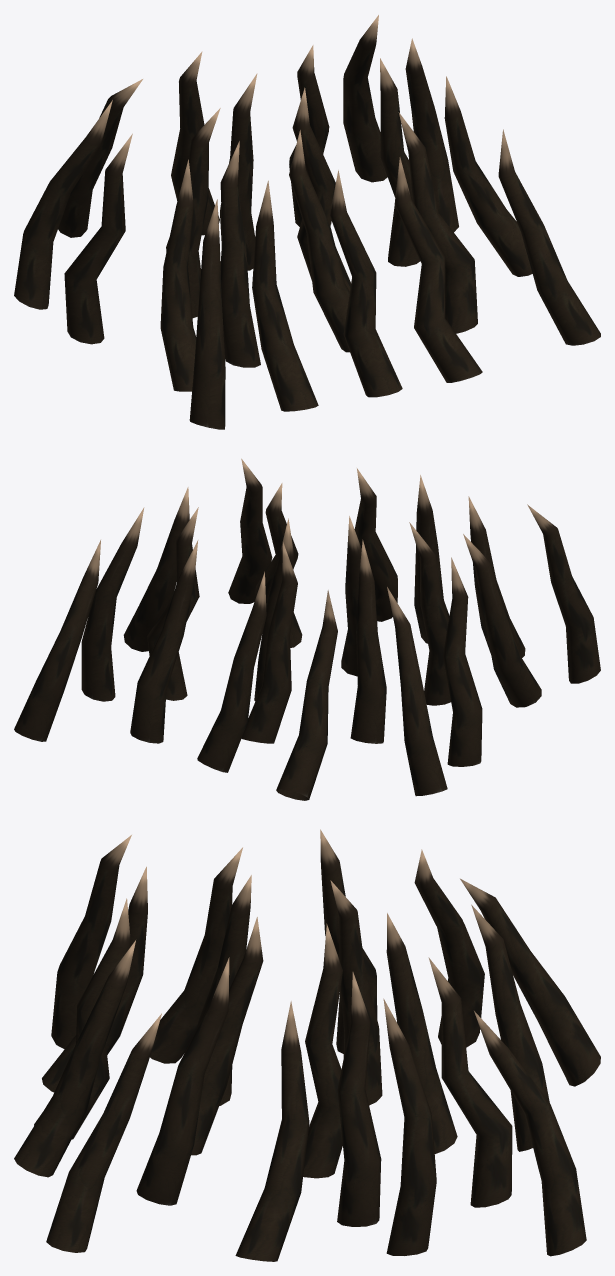
The model's file is puas.fbx.
3 views of the same model, one above another, from view 1: azimuth 30°, elevation 25°; view 2: azimuth 150°, elevation 25°; view 3: azimuth 270°, elevation 25° (orthographic). The views are drawn at different scales.
Parts seen in each view (by area): view 1: pCylinder11, pCylinder6, pCylinder18, pCylinder16, pCylinder17, pCylinder3, pCylinder12, pCylinder8, pCylinder13, pCylinder7, pCylinder14, pCylinder5 (+9 smaller); view 2: pCylinder9, pCylinder1, pCylinder15, pCylinder12, pCylinder3, pCylinder20, pCylinder4, pCylinder21, pCylinder10, pCylinder17, pCylinder8, pCylinder13 (+9 smaller); view 3: pCylinder7, pCylinder1, pCylinder6, pCylinder15, pCylinder21, pCylinder14, pCylinder19, pCylinder16, pCylinder9, pCylinder2, pCylinder17, pCylinder8 (+9 smaller).
Part boxes in pixels (bbox=[...]): pCylinder11: bbox=[252, 180, 318, 411]; pCylinder6: bbox=[394, 157, 482, 382]; pCylinder18: bbox=[329, 170, 402, 397]; pCylinder16: bbox=[498, 129, 600, 345]; pCylinder17: bbox=[189, 199, 225, 429]; pCylinder3: bbox=[14, 100, 112, 309]; pCylinder12: bbox=[64, 133, 132, 344]; pCylinder8: bbox=[160, 159, 196, 391]; pCylinder13: bbox=[220, 141, 260, 367]; pCylinder7: bbox=[444, 76, 532, 276]; pCylinder14: bbox=[398, 112, 477, 333]; pCylinder5: bbox=[289, 130, 349, 352]; pCylinder9: bbox=[276, 590, 337, 800]; pCylinder1: bbox=[14, 540, 100, 741]; pCylinder15: bbox=[130, 540, 198, 743]; pCylinder12: bbox=[443, 557, 482, 766]; pCylinder3: bbox=[387, 587, 447, 796]; pCylinder20: bbox=[241, 542, 297, 743]; pCylinder4: bbox=[197, 571, 266, 772]; pCylinder21: bbox=[81, 507, 144, 701]; pCylinder10: bbox=[350, 539, 386, 743]; pCylinder17: bbox=[527, 504, 600, 683]; pCylinder8: bbox=[463, 534, 541, 707]; pCylinder13: bbox=[409, 522, 450, 705]; pCylinder7: bbox=[235, 1001, 309, 1261]; pCylinder1: bbox=[474, 1011, 586, 1256]; pCylinder6: bbox=[14, 940, 135, 1177]; pCylinder15: bbox=[428, 957, 512, 1207]; pCylinder21: bbox=[383, 998, 436, 1255]; pCylinder14: bbox=[136, 957, 229, 1205]; pCylinder19: bbox=[337, 972, 381, 1226]; pCylinder16: bbox=[46, 1013, 161, 1252]; pCylinder9: bbox=[460, 878, 600, 1086]; pCylinder2: bbox=[303, 923, 342, 1178]; pCylinder17: bbox=[51, 835, 131, 1049]; pCylinder8: bbox=[150, 847, 242, 1063].
Size of the model in its own units: 5.39 by 2.49 by 5.57.
1 material, 1 textured.
